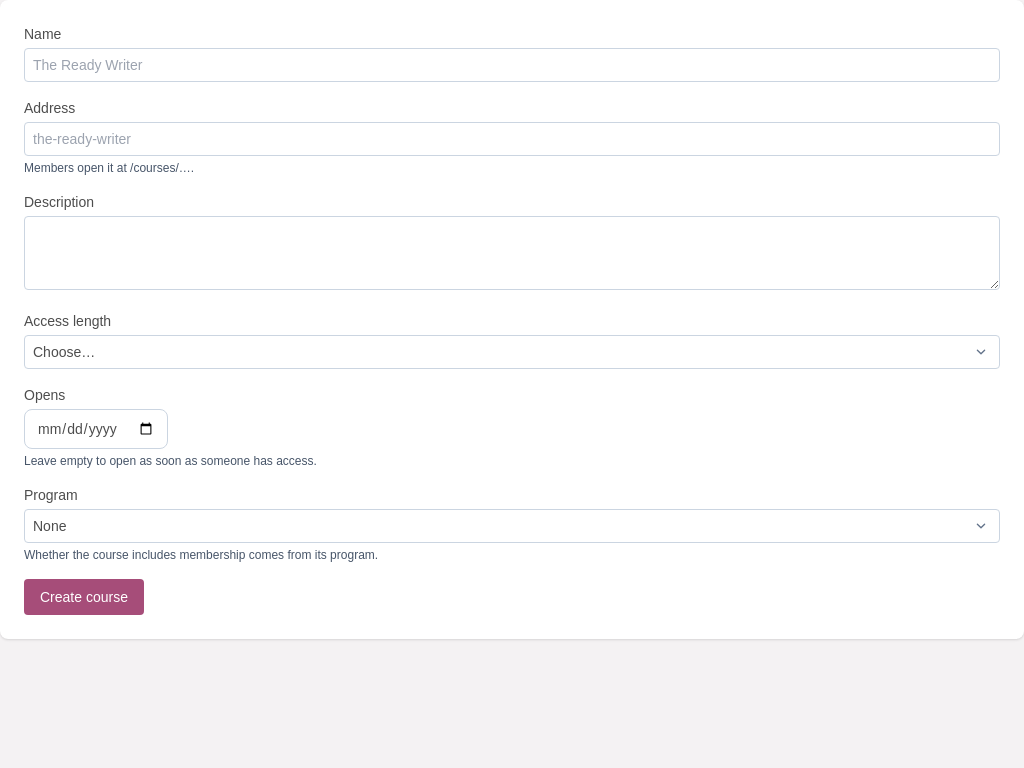
Scenario: CourseDetailsForm, creating › shows the address the name will get, and that members will open it there
The width and height of the screenshot is (1024, 768).
Type "Café & Quill!" into the field labelled "Name" at x=512, y=65, box [24, 48, 1000, 82]
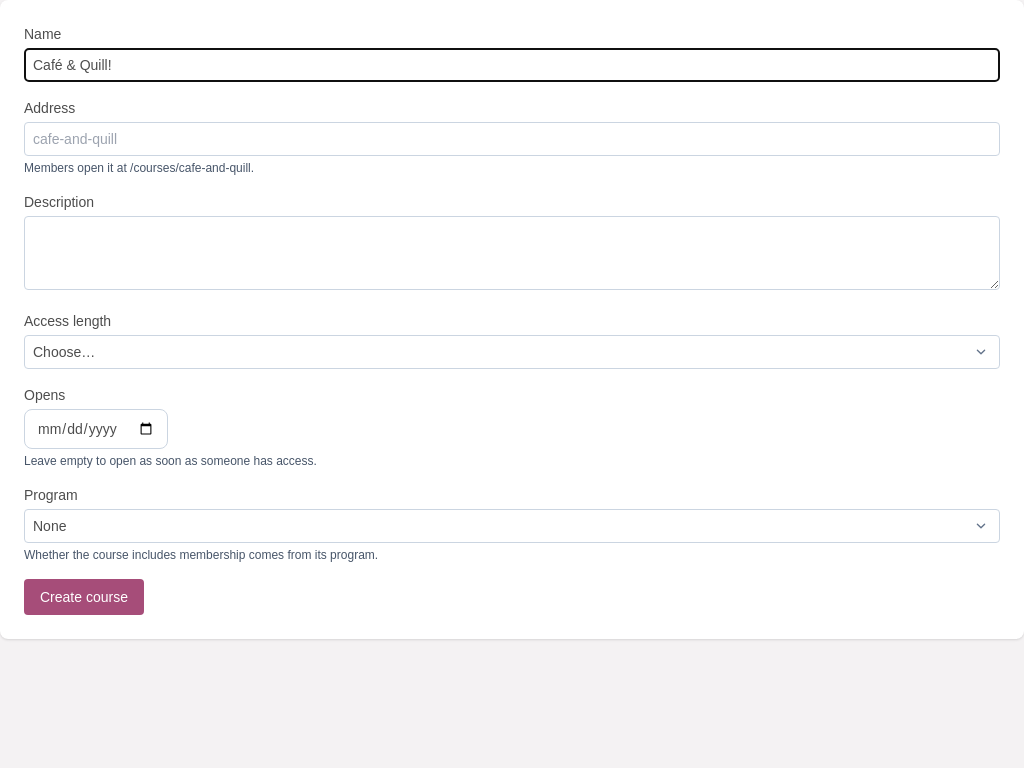
Now the text "Members open it at /courses/cafe-and-quill." is shown, box [24, 161, 254, 175]
Type "my-own" into the field labelled "Address" at x=512, y=139, box [24, 122, 1000, 156]
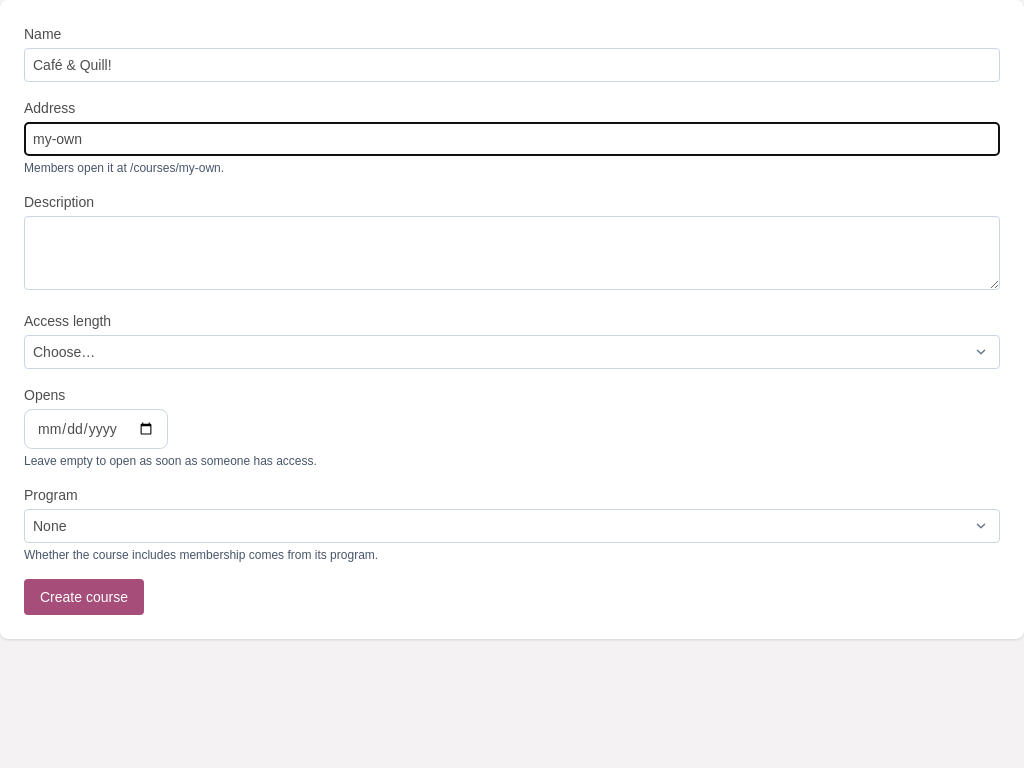
Now the text "Members open it at /courses/my-own." is shown, box [24, 161, 224, 175]
